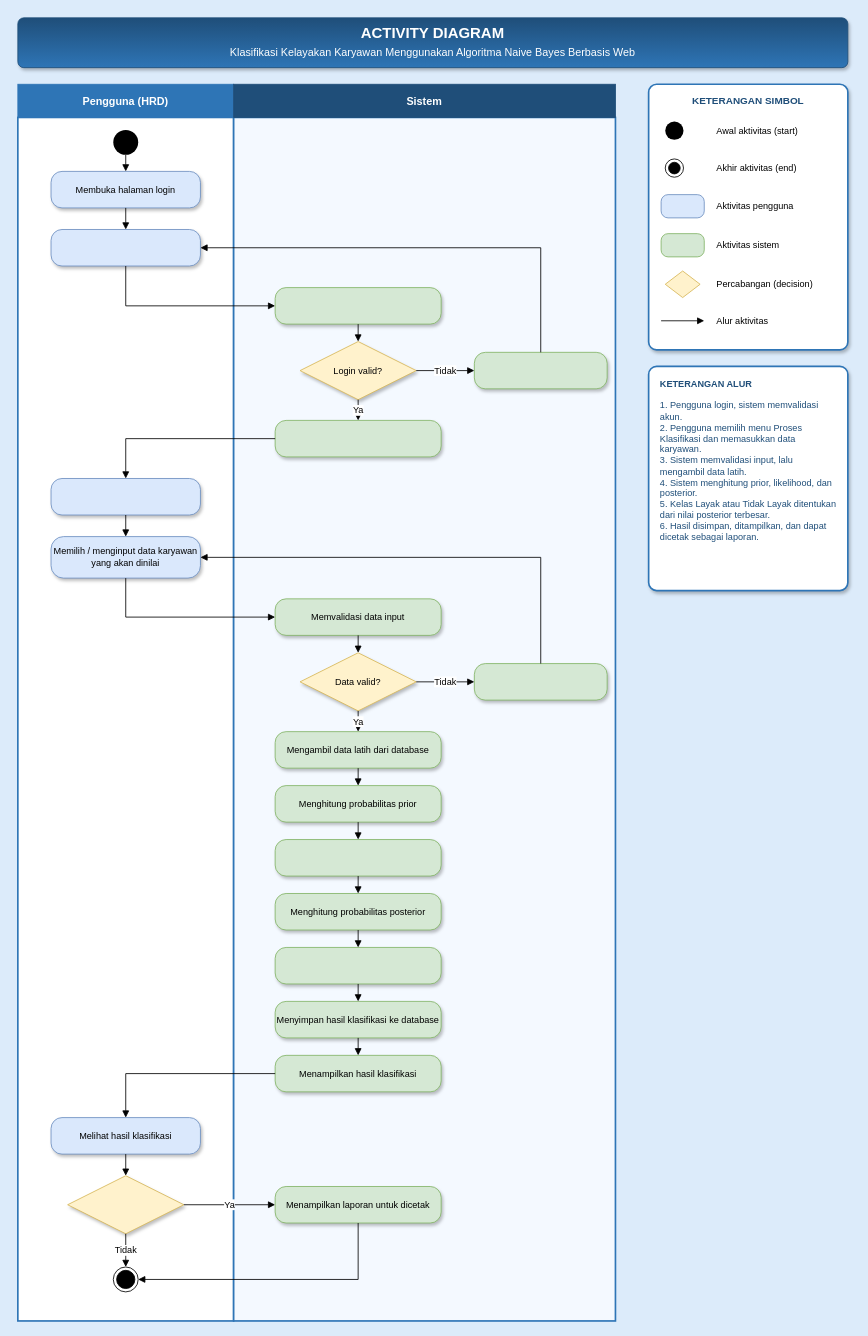
This 868x1336 diagram has some shape labels left out. Here are the shapes that lost their labels. From the top down, the centre of each, then its label:
At (126,248): "Input username dan password".
At (358,306): "Memvalidasi data login".
At (541,371): "Menampilkan pesan gagal login".
At (358,439): "Menampilkan halaman dashboard".
At (126,497): "Memilih menu Proses Klasifikasi".
At (541,682): "Menampilkan pesan error".
At (358,858): "Menghitung probabilitas likelihood tiap kriteria".
At (358,966): "Menentukan kelas Layak / Tidak Layak (posterior terbesar)".
At (126,1206): "Cetak laporan?".
